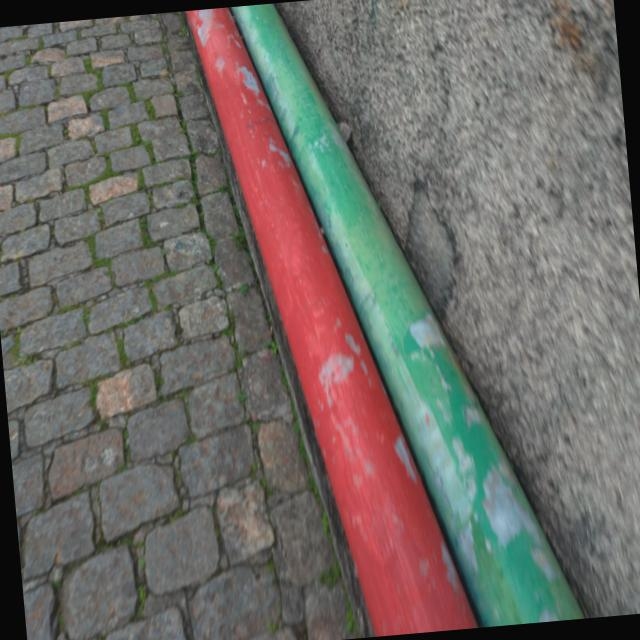gas: (232, 3, 583, 625), (185, 7, 479, 636)
